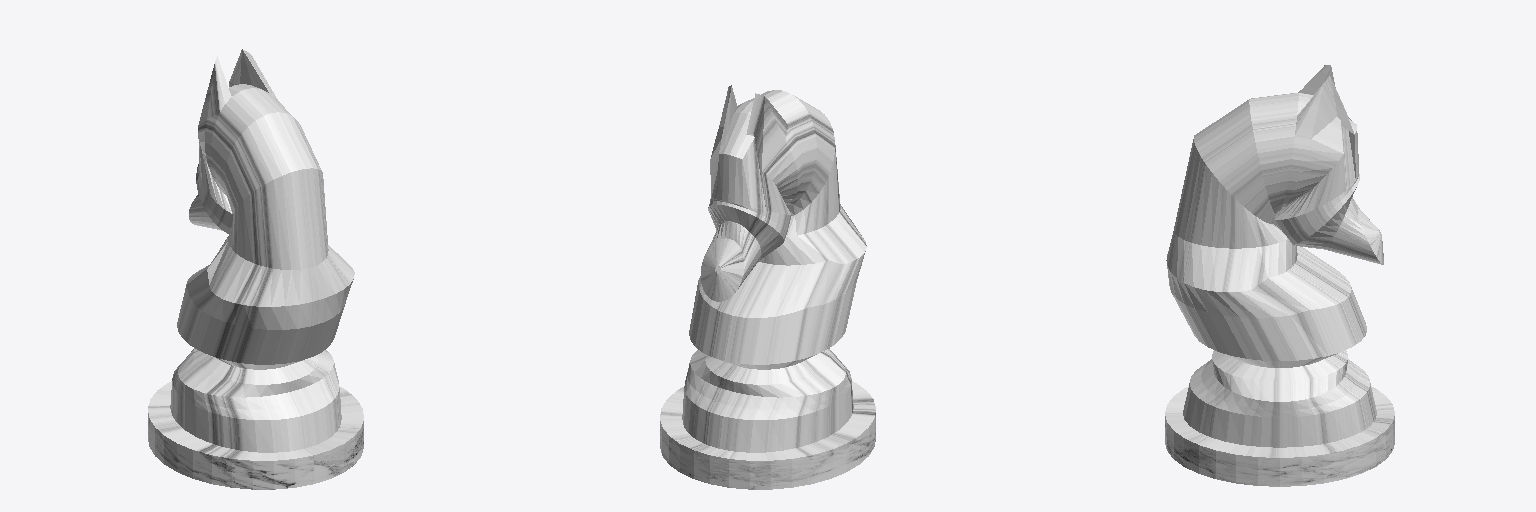
3 views of the same model, side by side, from view 1: azimuth 30°, elevation 25°; view 2: azimuth 150°, elevation 25°; view 3: azimuth 270°, elevation 25° (orthographic).
Visible parts, largest first — view 1: Cylinder; view 2: Cylinder; view 3: Cylinder.
Boxes of the visible parts, box(x1,y1,x2,y2) form: Cylinder: box(148, 49, 363, 489); Cylinder: box(660, 85, 875, 489); Cylinder: box(1165, 65, 1394, 486).
Bounding box in the file's own units: 1.08 × 2.1 × 1.17.
1 materials, 1 textured.